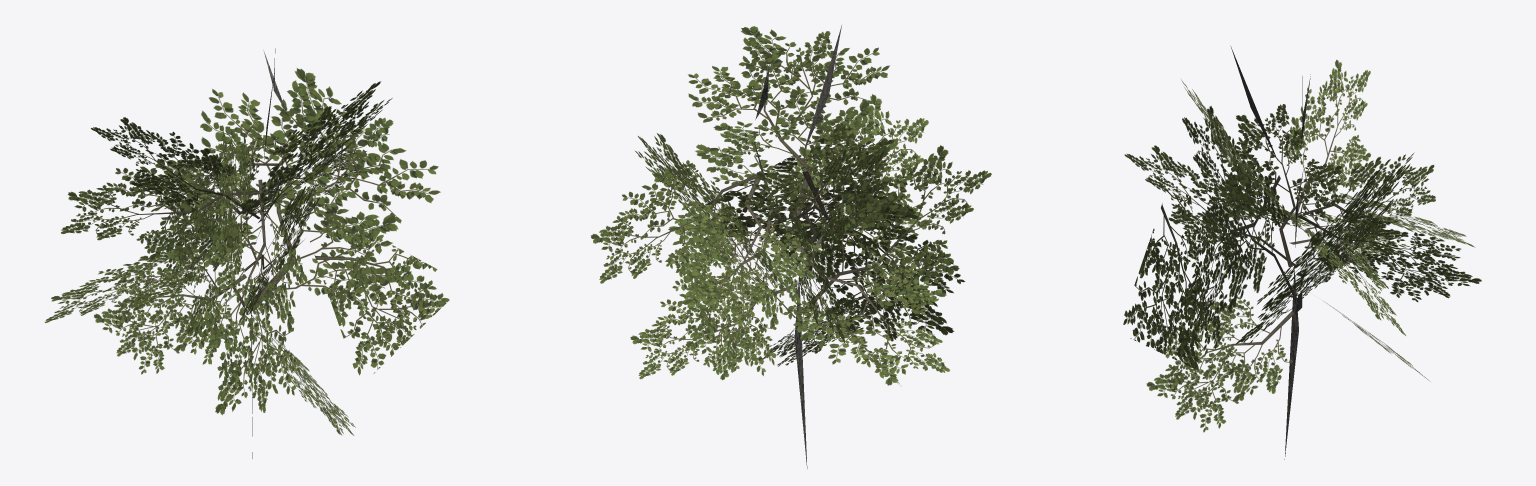
Rendered from l_tree.glb.
3 views of the same model, side by side, from view 1: azimuth 30°, elevation 25°; view 2: azimuth 150°, elevation 25°; view 3: azimuth 270°, elevation 25° (orthographic). The views are drawn at different scales.
Visible parts, largest first — view 1: Tree-01-3; view 2: Tree-01-3; view 3: Tree-01-3.
Part boxes in pixels (box(x1,y1,x2,y2)): Tree-01-3: box(44, 48, 449, 458); Tree-01-3: box(590, 25, 991, 468); Tree-01-3: box(1123, 46, 1481, 459).
Bounding box in the file's own units: 7.36 × 6.6 × 6.27.
3 materials, 3 textured.
